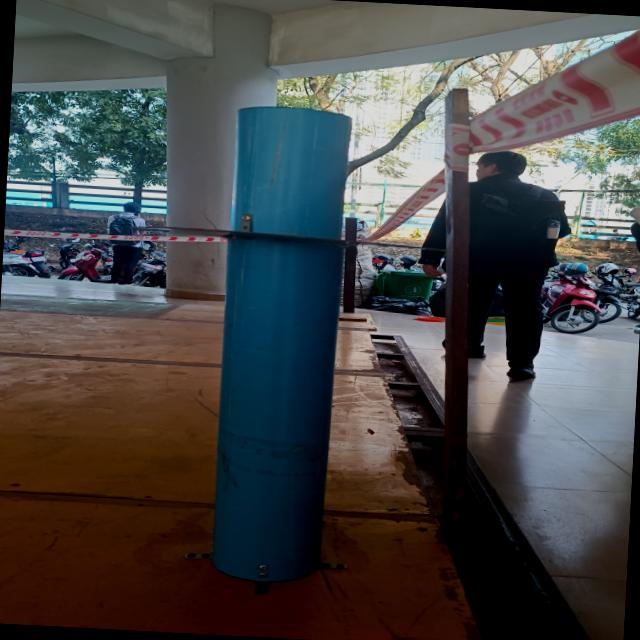pole: (138, 96, 434, 384)
